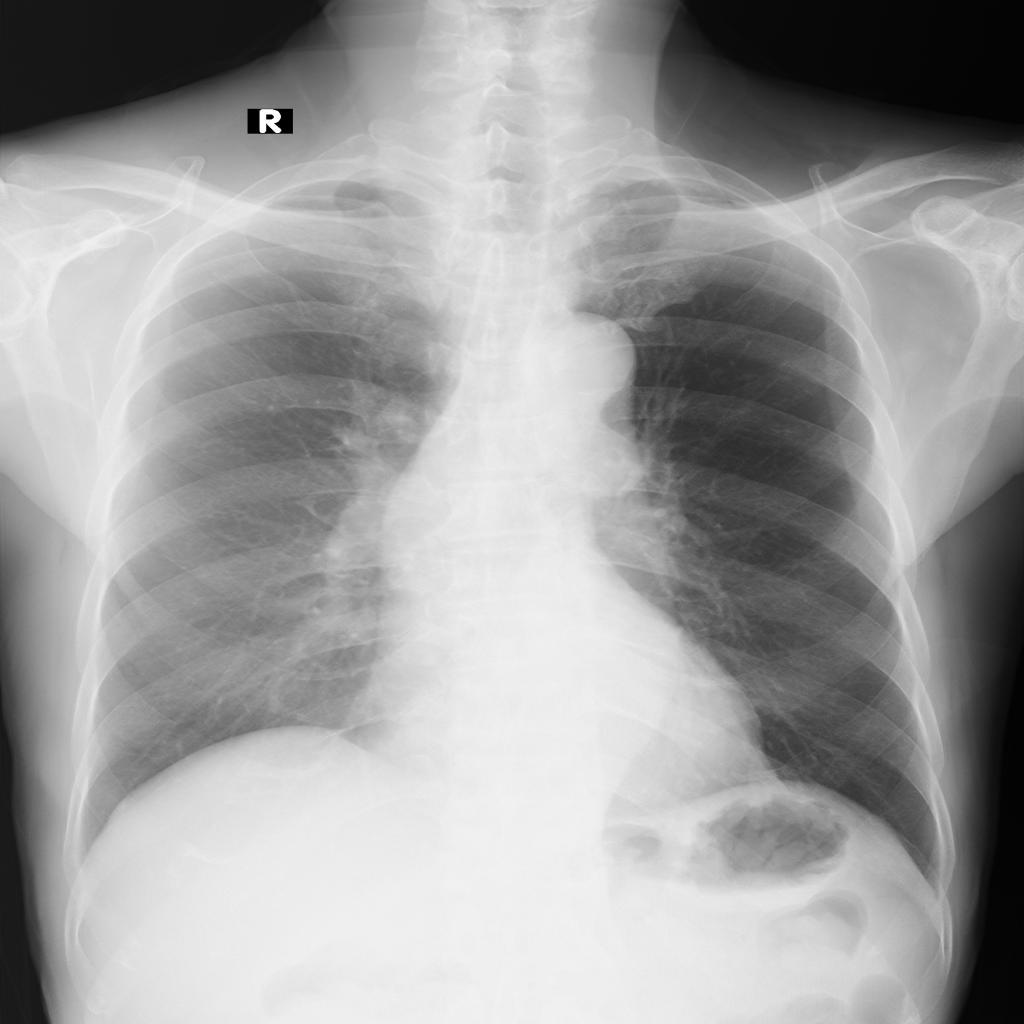Nodule: (576, 417, 643, 500)
